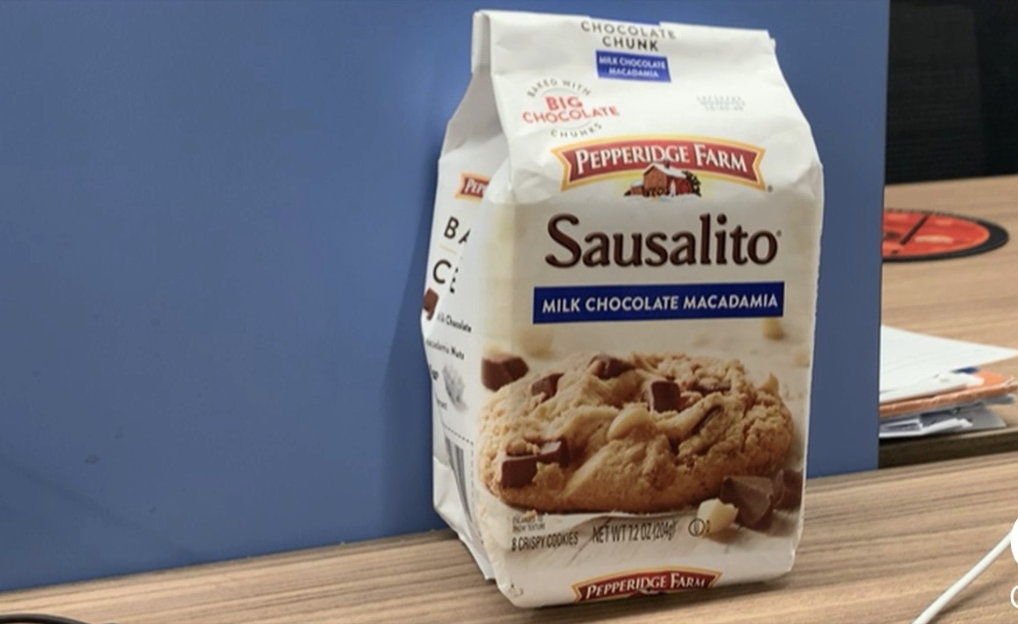cookies_150g: (501, 49, 792, 559)
